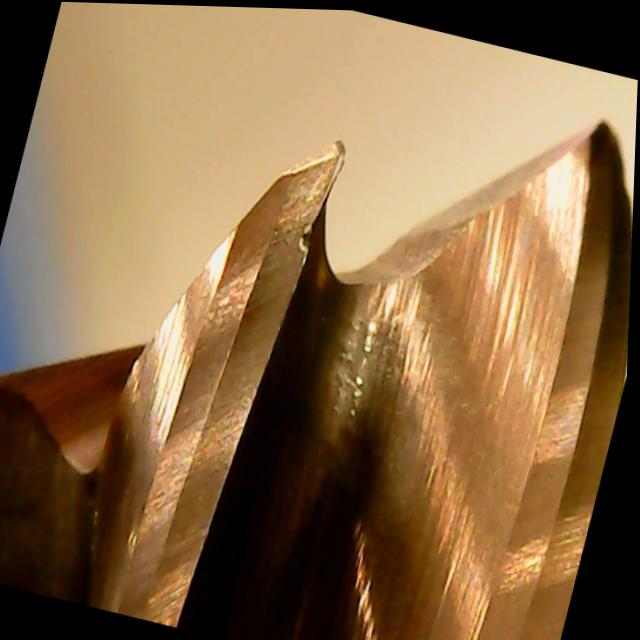Tool-wear-class-1: (197, 100, 375, 364)
